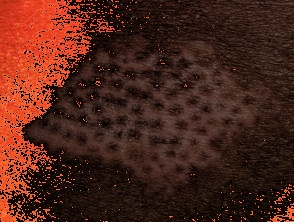vitiligo: (3, 19, 294, 210)
